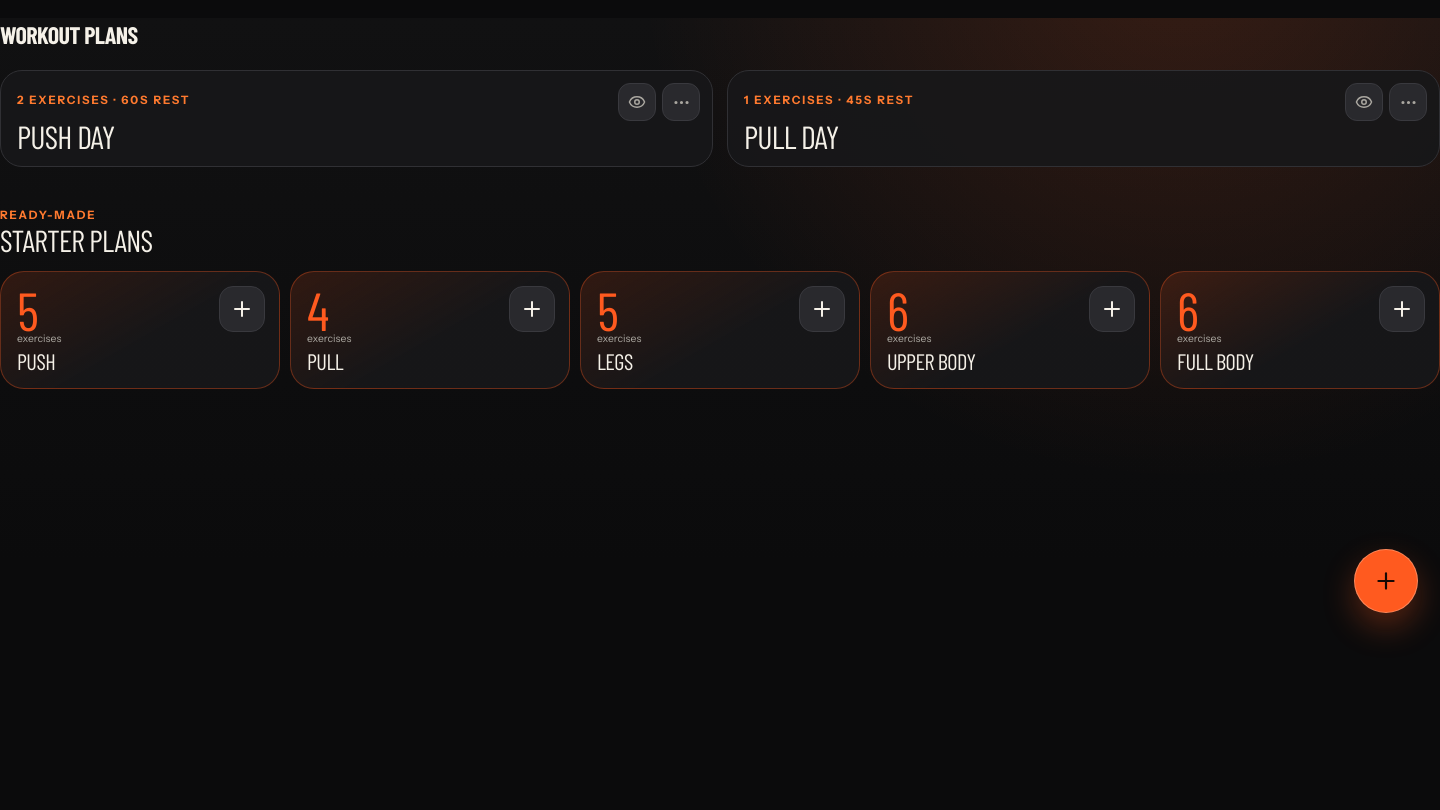
it: PlansScreen card controls › searches exercises by name, muscle group, and equipment
Click the button named "Create new workout plan".
click(1386, 581)  # box [1354,549,1418,613]
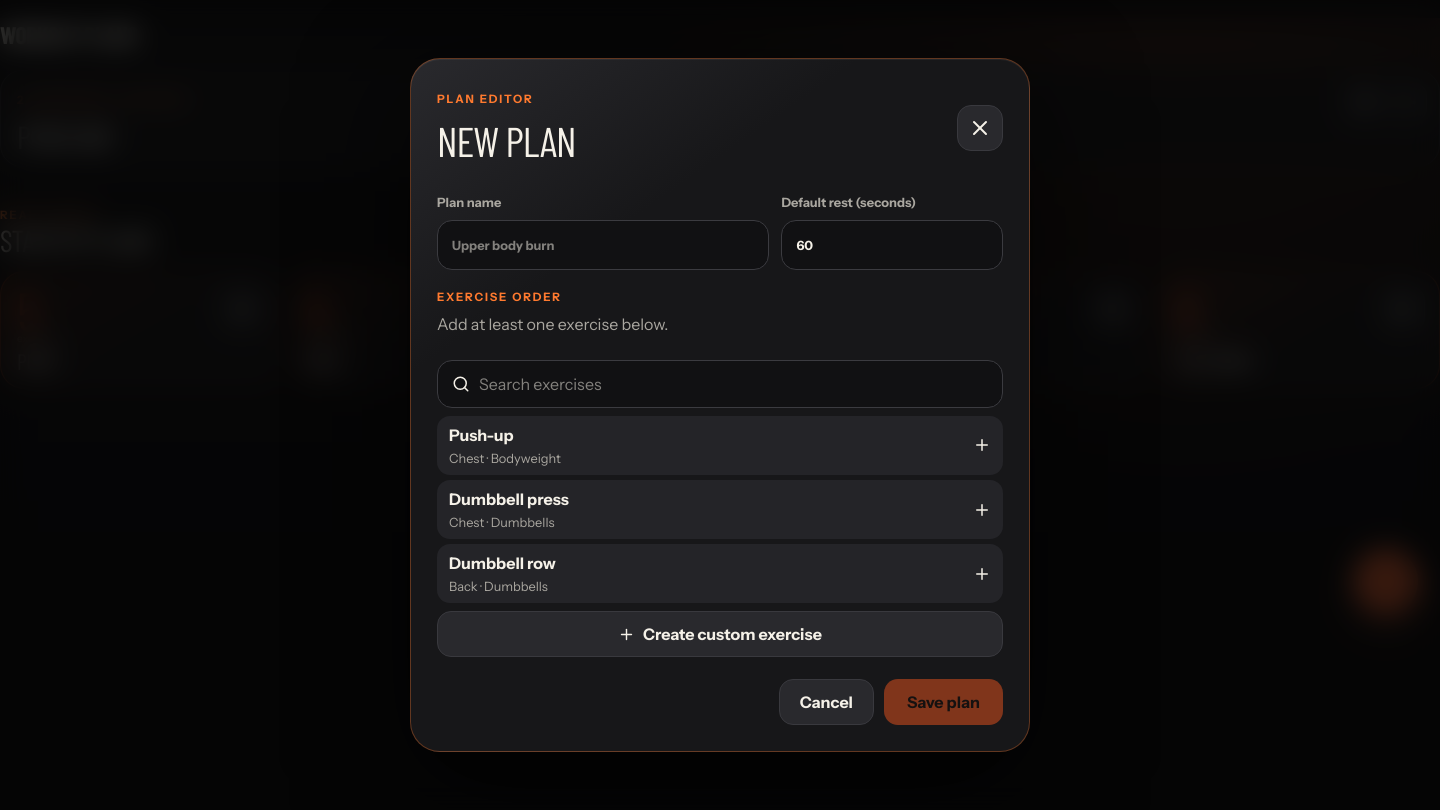
Type "chest" into the field labelled "Search exercises".
click(734, 384); type("chest")  # box [479,372,988,396]
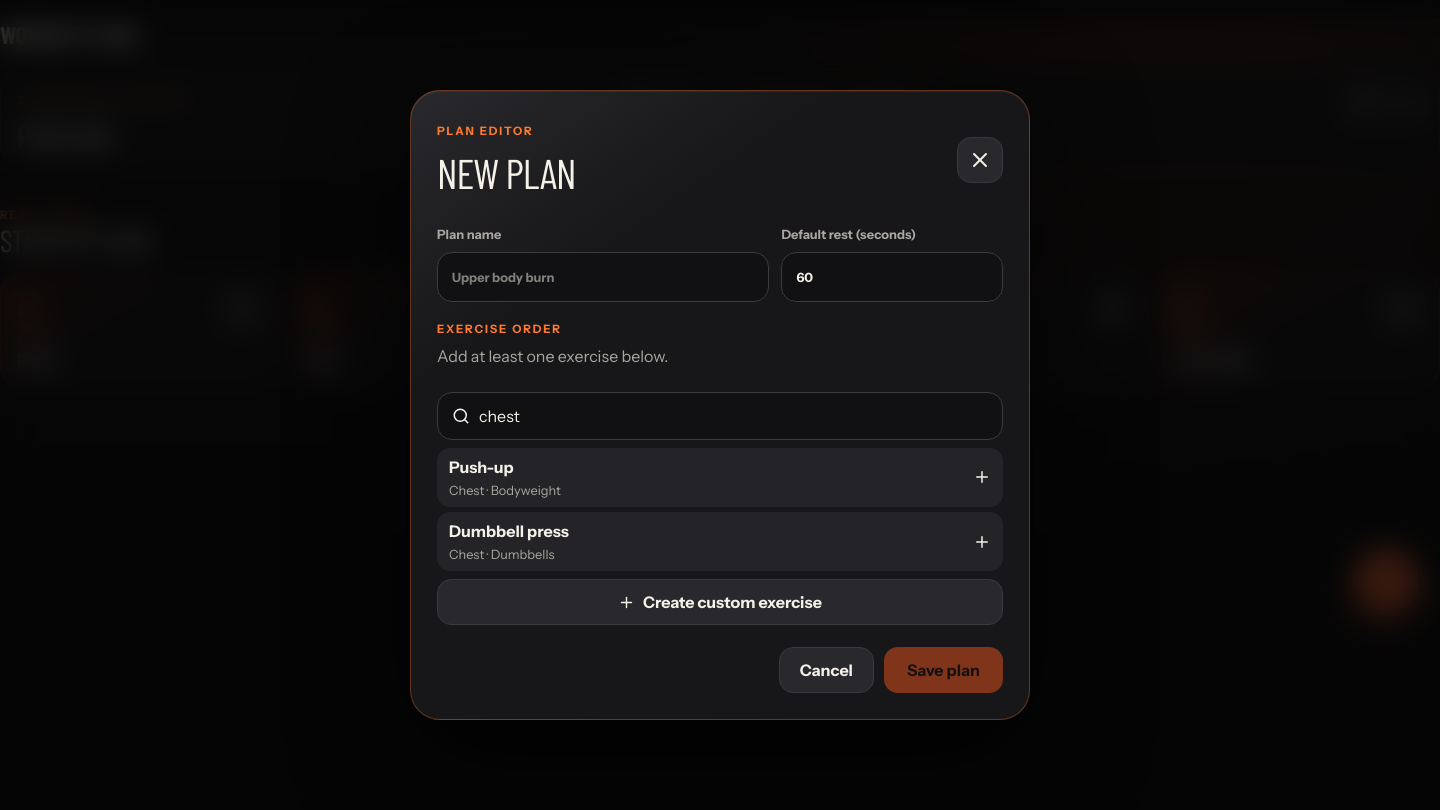
Result: the text "Push-up" is shown at [449,457,514,477]
Result: the text "Dumbbell press" is shown at [449,521,569,541]
Replace the text in the field named "Search exercises" with "dumbbells" at coordinates (734, 416), box [479,404,988,428]
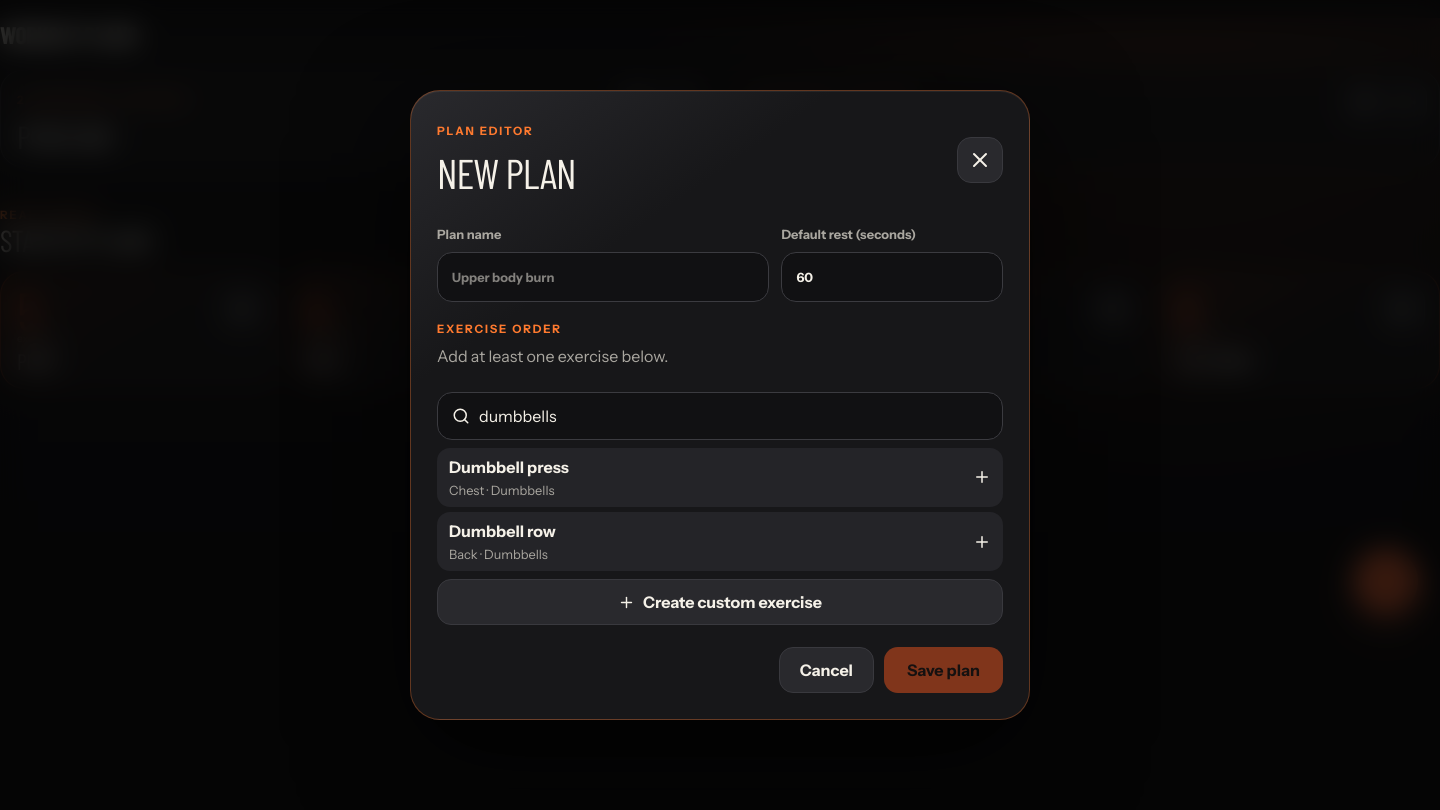
Result: the text "Dumbbell row" is shown at [449,521,556,541]
